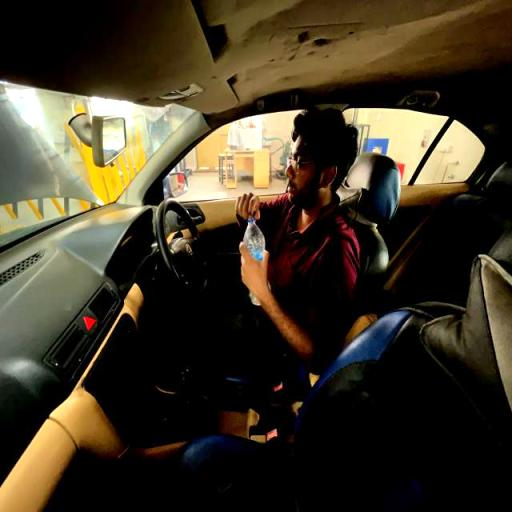Drinking: (198, 106, 365, 375)
